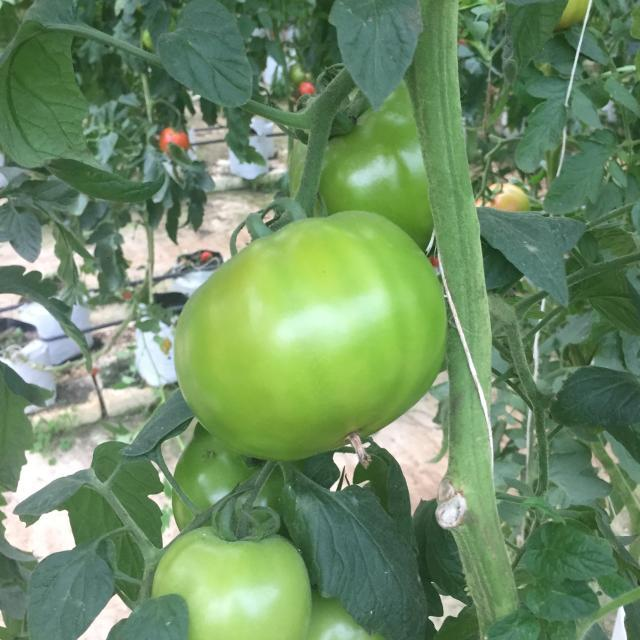yesil: (168, 202, 436, 450)
